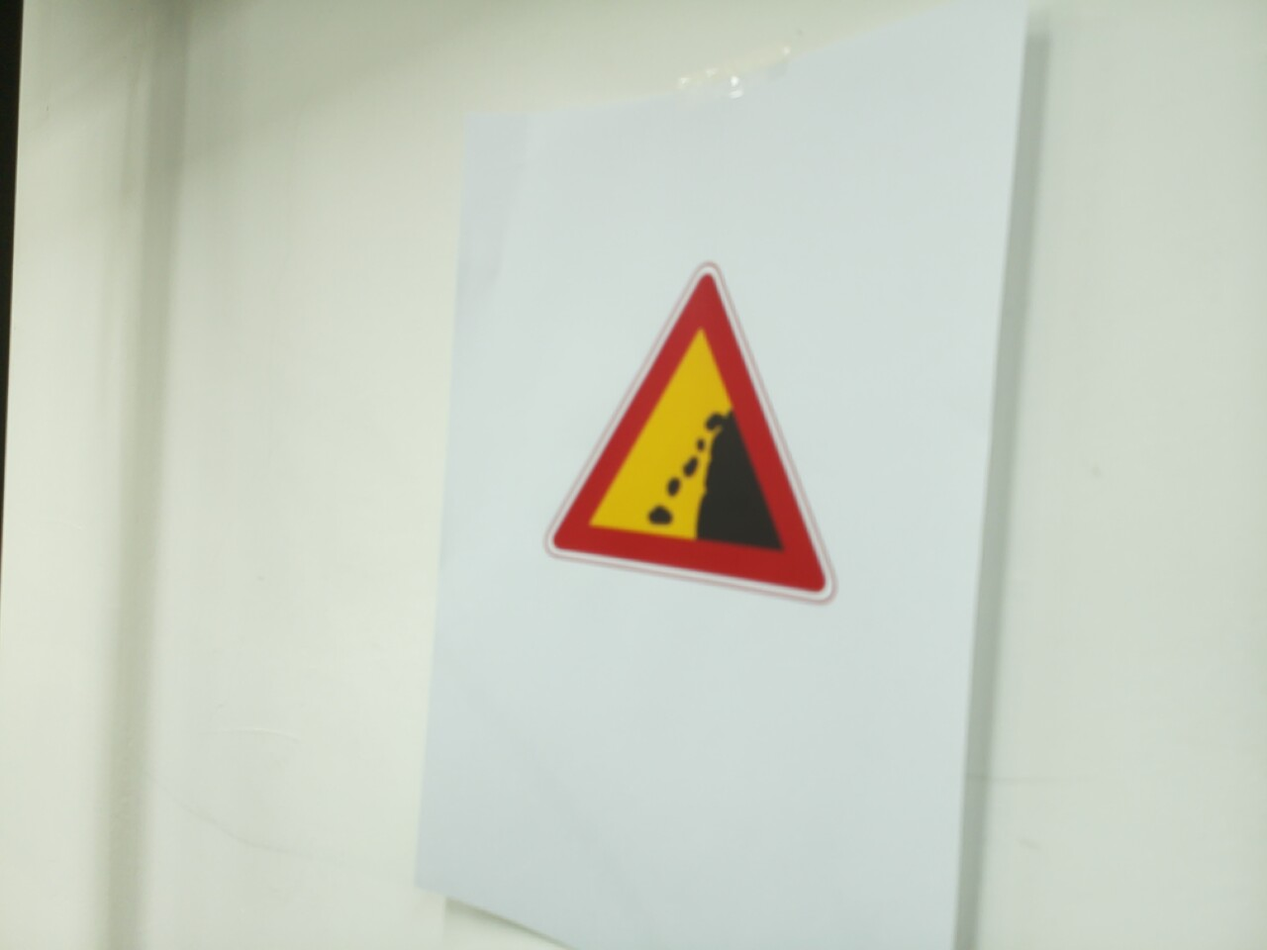falling_rocks: (544, 264, 834, 602)
